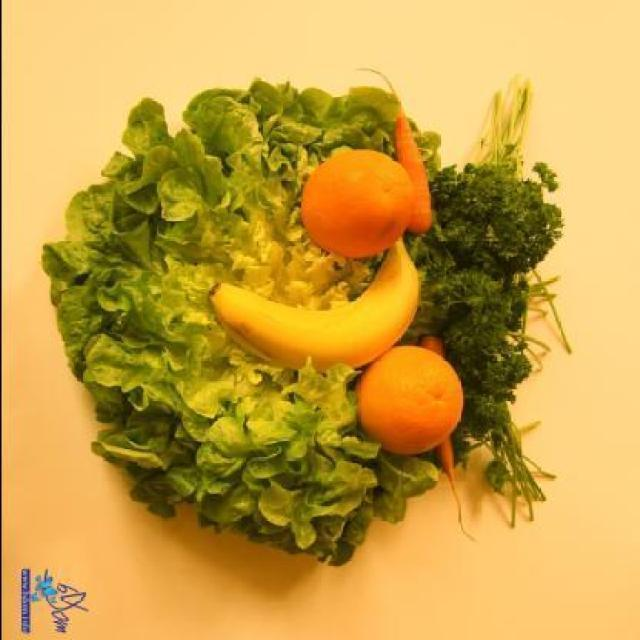Carrot: (352, 65, 436, 238), (413, 340, 475, 536)
